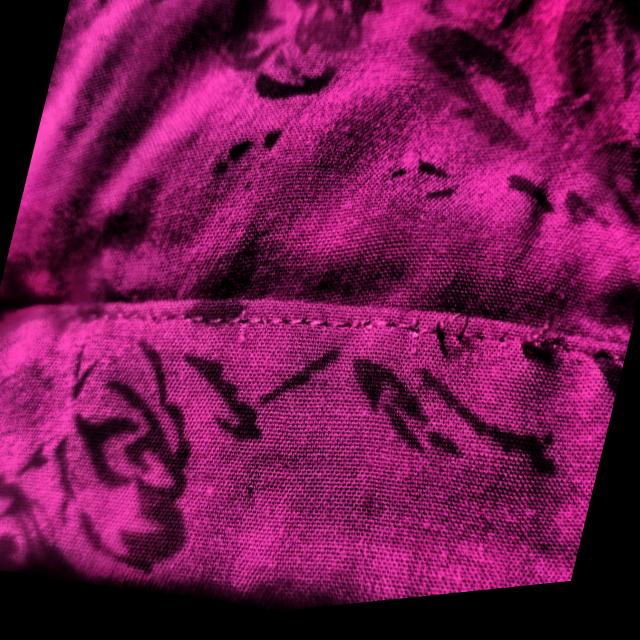Stitch: (387, 280, 481, 423), (488, 304, 587, 437)
